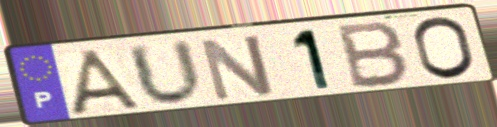1: (286, 26, 335, 94)
A: (67, 46, 150, 116)
B: (336, 19, 413, 91)
N: (197, 32, 278, 104)
O: (410, 15, 479, 82)
U: (123, 37, 208, 109)
